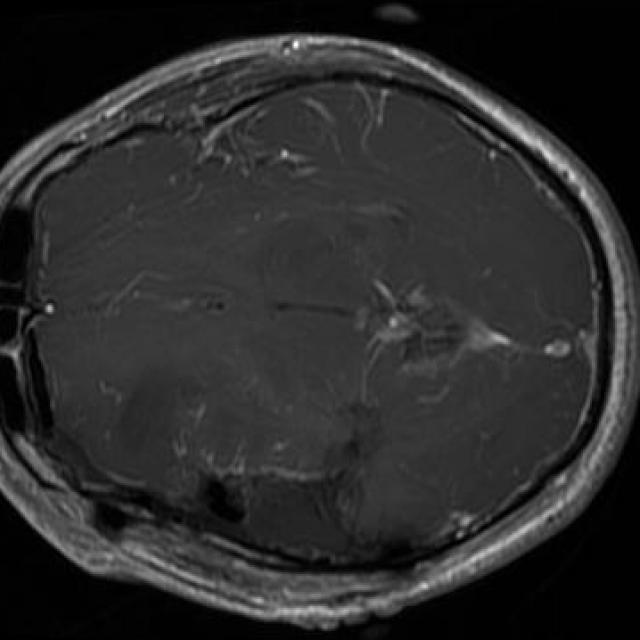glioma: (66, 405, 421, 567)
